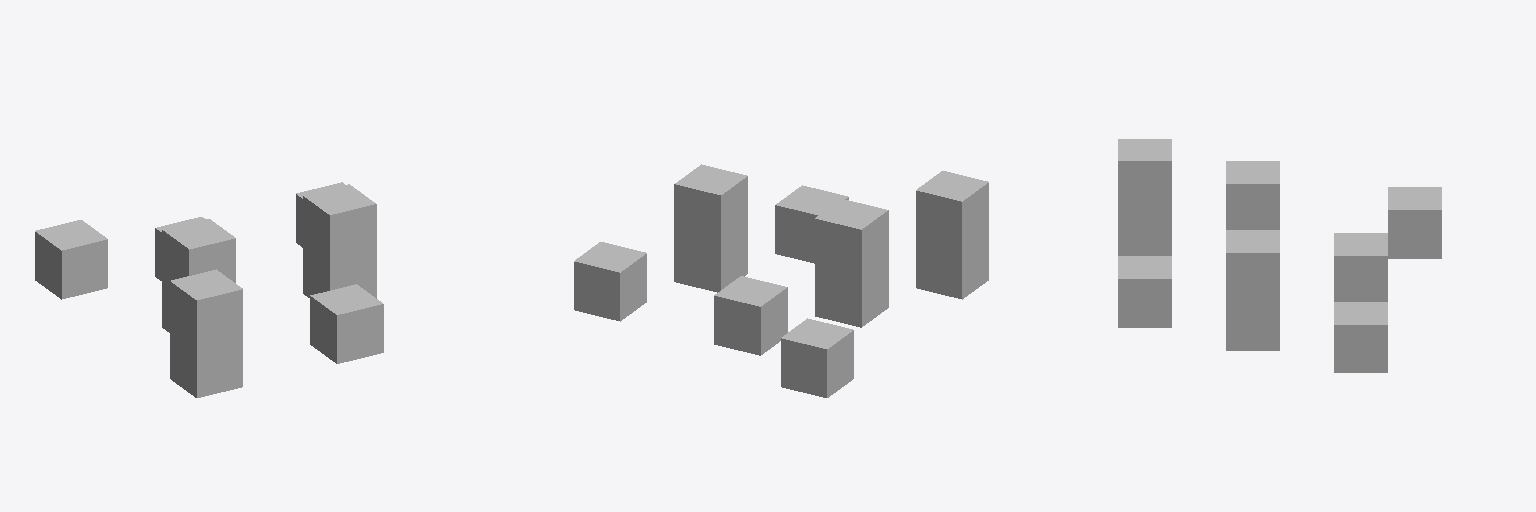
File: lightGrass1-0.obj
The picture shows the model from 3 angles: view 1: azimuth 30°, elevation 25°; view 2: azimuth 150°, elevation 25°; view 3: azimuth 270°, elevation 25°; orthographic projection.
Visible parts, largest first — view 1: object 1; view 2: object 1; view 3: object 1.
Boxes of the visible parts, <box> form: object 1: <box>35,182,383,397</box>; object 1: <box>574,164,988,397</box>; object 1: <box>1118,139,1441,372</box>.
Bounding box in the file's own units: 0.6 × 0.2 × 0.6.